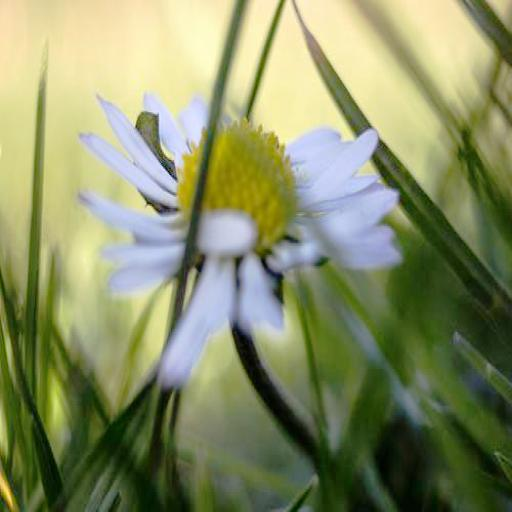daisy: (91, 77, 381, 329)
